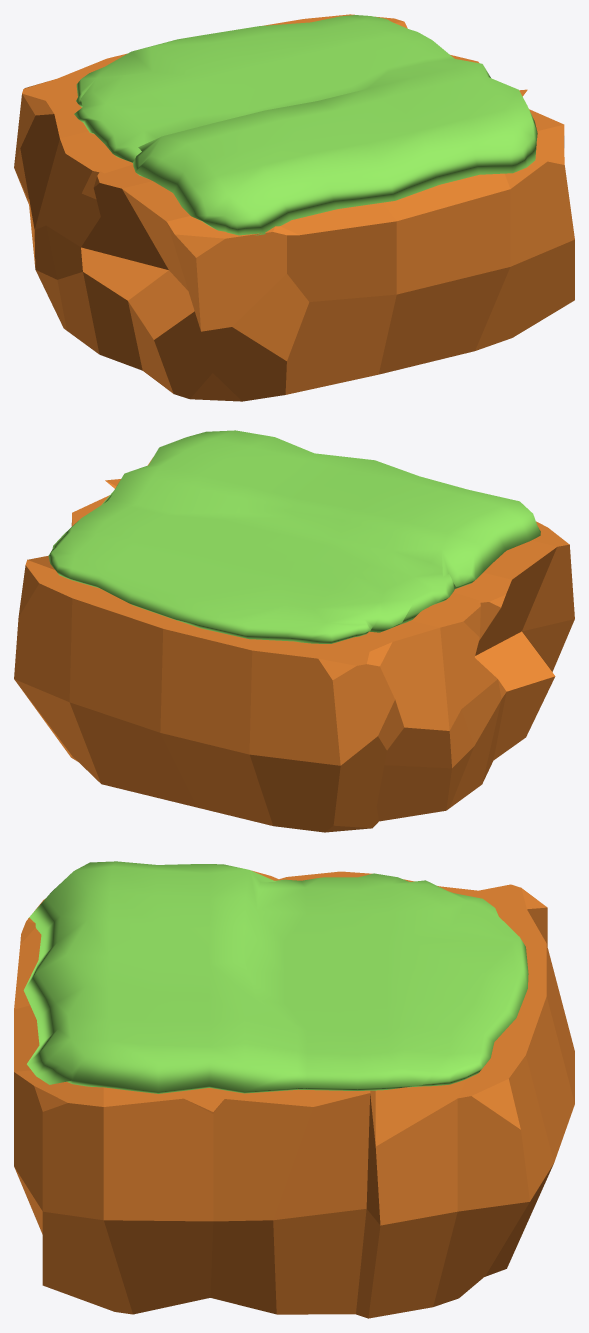
The model's file is Platform_02.fbx.
3 views of the same model, one above another, from view 1: azimuth 30°, elevation 25°; view 2: azimuth 150°, elevation 25°; view 3: azimuth 270°, elevation 25° (orthographic). The views are drawn at different scales.
Visible parts, largest first — view 1: Platform_02; view 2: Platform_02; view 3: Platform_02.
Part boxes in pixels (x1=…): Platform_02: x1=14, y1=14, x2=574, y2=401; Platform_02: x1=14, y1=430, x2=574, y2=832; Platform_02: x1=14, y1=861, x2=574, y2=1318.
Bounding box in the file's own units: 473 × 233 × 449.
